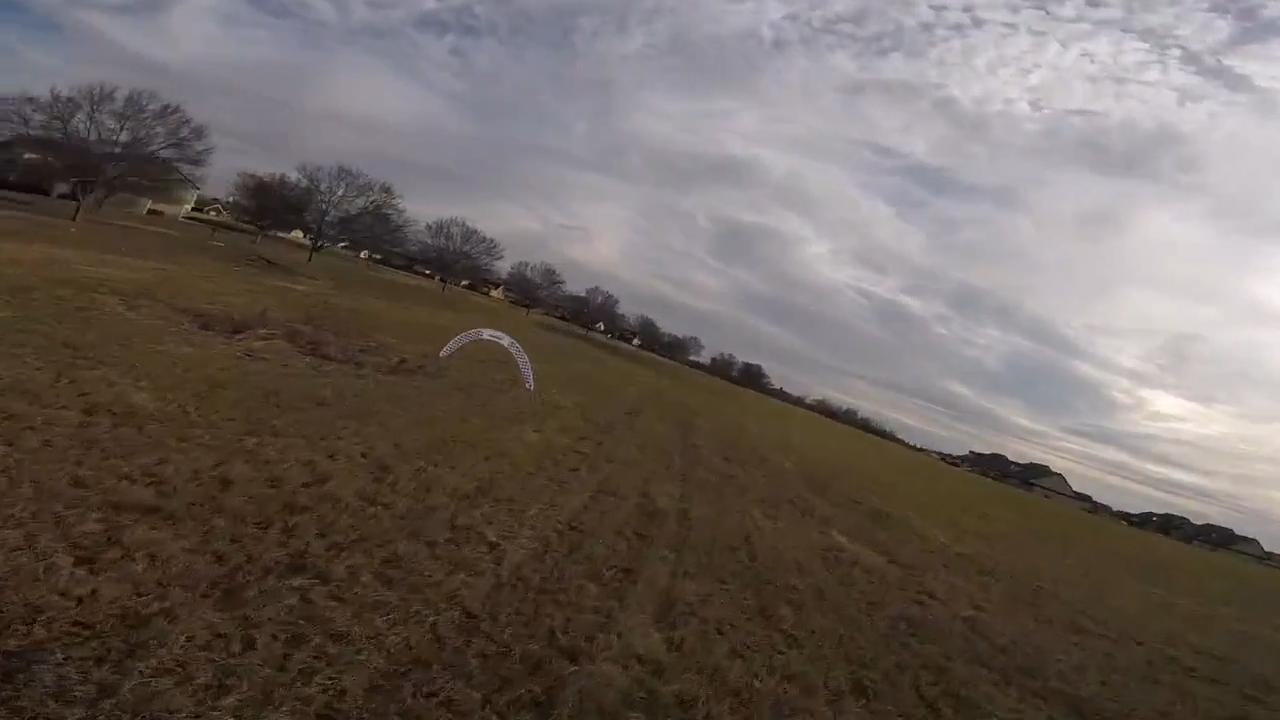gate: (437, 326, 535, 393)
